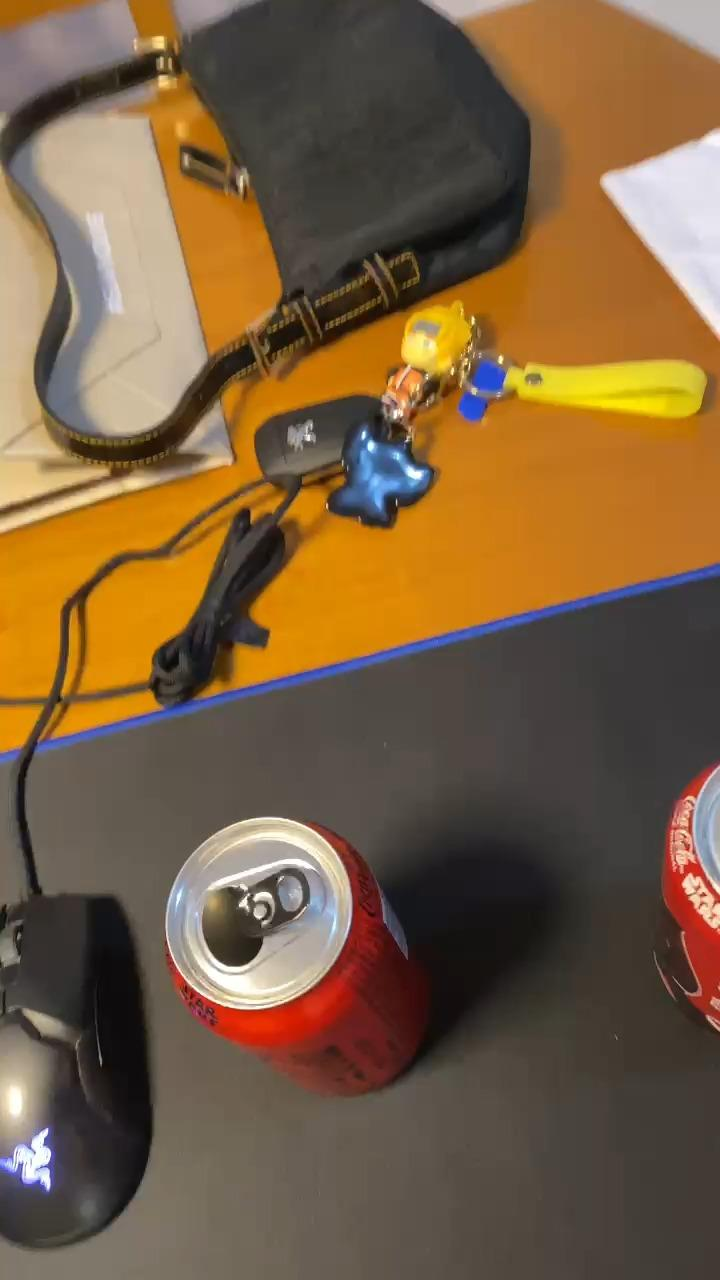coke: (166, 811, 429, 1094), (658, 758, 719, 1036)
